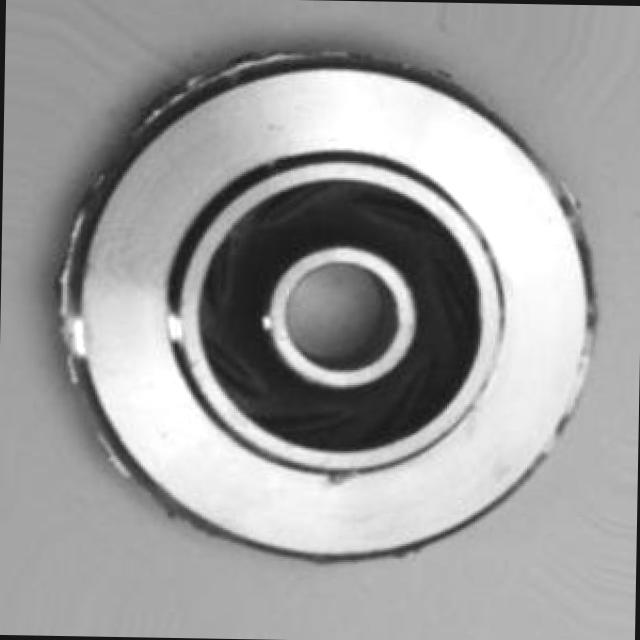Defect: (166, 46, 288, 92)
